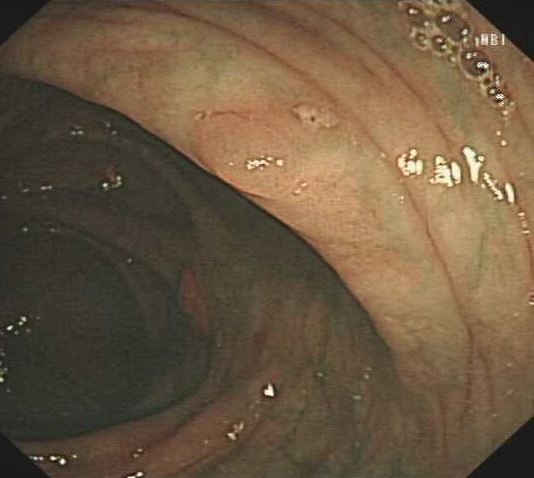adenoma: (185, 107, 304, 203)
